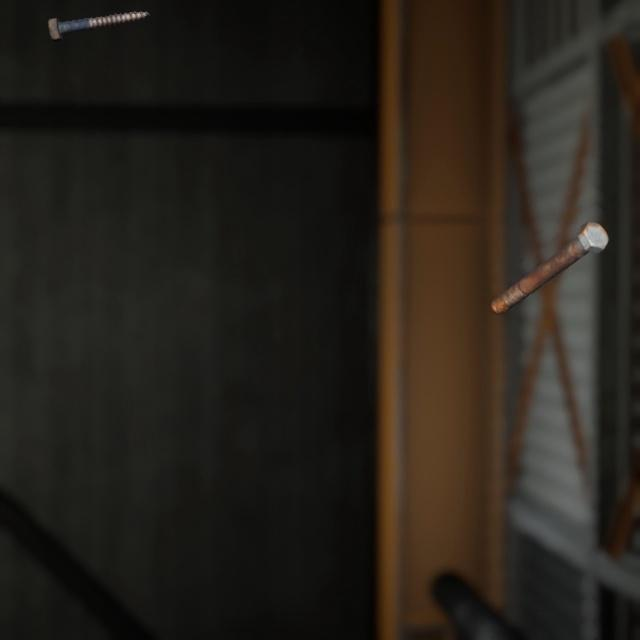bolt: (486, 200, 613, 302), (43, 0, 154, 37), (489, 610, 613, 640)
